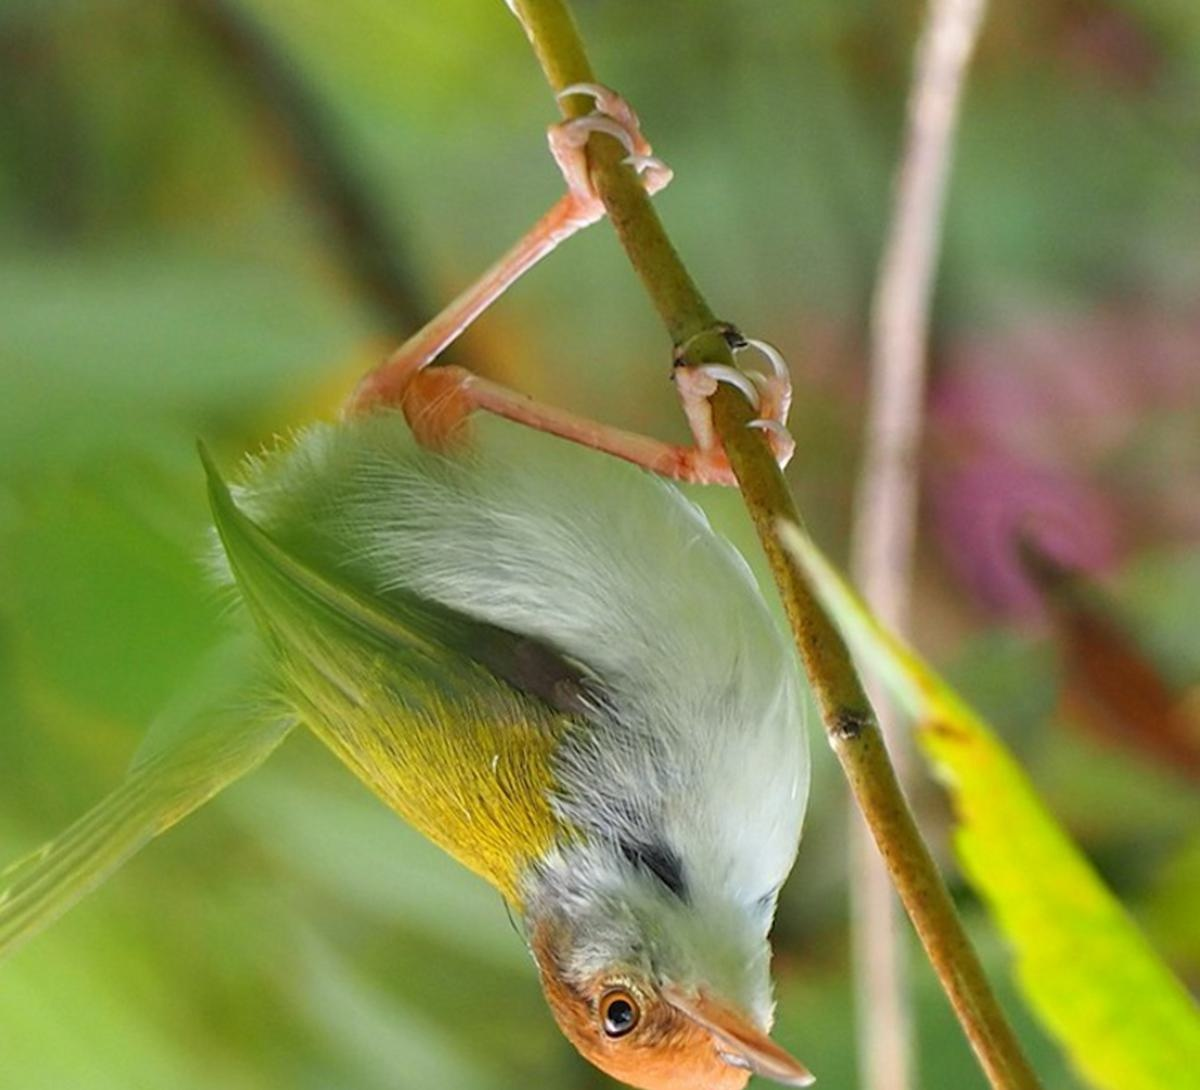tailorbird: (1, 92, 874, 1088)
